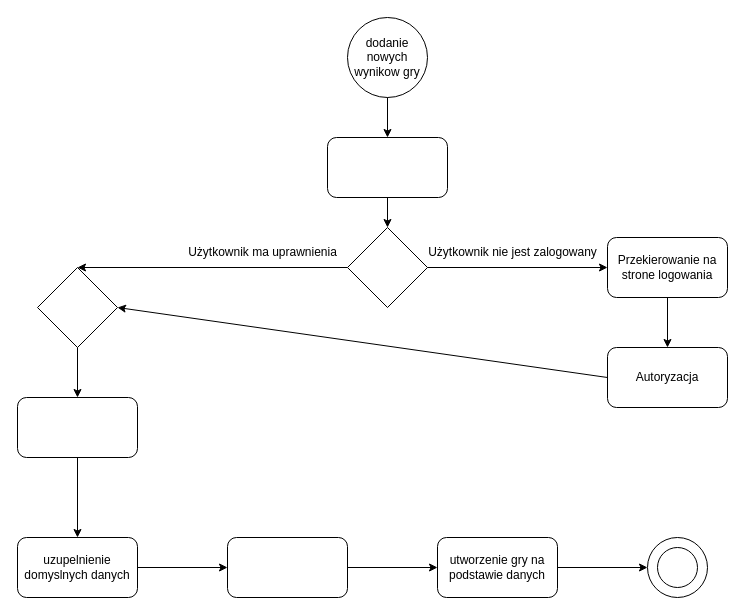
Some shapes in this 745 by 615 pixel diagram are drawn without their labels. Here are the shapes that lost their labels. From the top down, the centre of each, then its label:
At [387,167]: "Sprawdzenie uprawnien".
At [77,427]: "Pobranie danych od uzytkownika".
At [287,567]: "zarejestrowanie danych w systemie".
